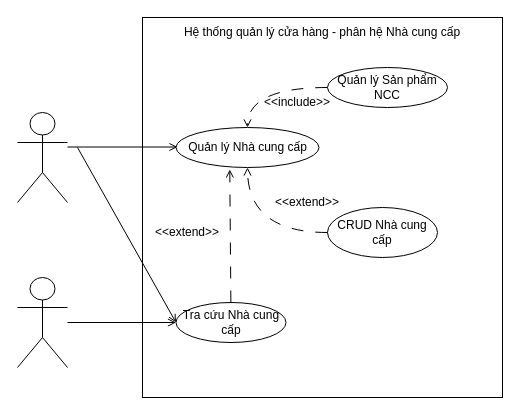
This 520x415 diagram has some shape labels left out. The shapes that lost their labels are listed below. From the top down, each one's centre as x and y in pixels, then its label:
At point 42,157: "QLY".
At point 42,322: "NV".
